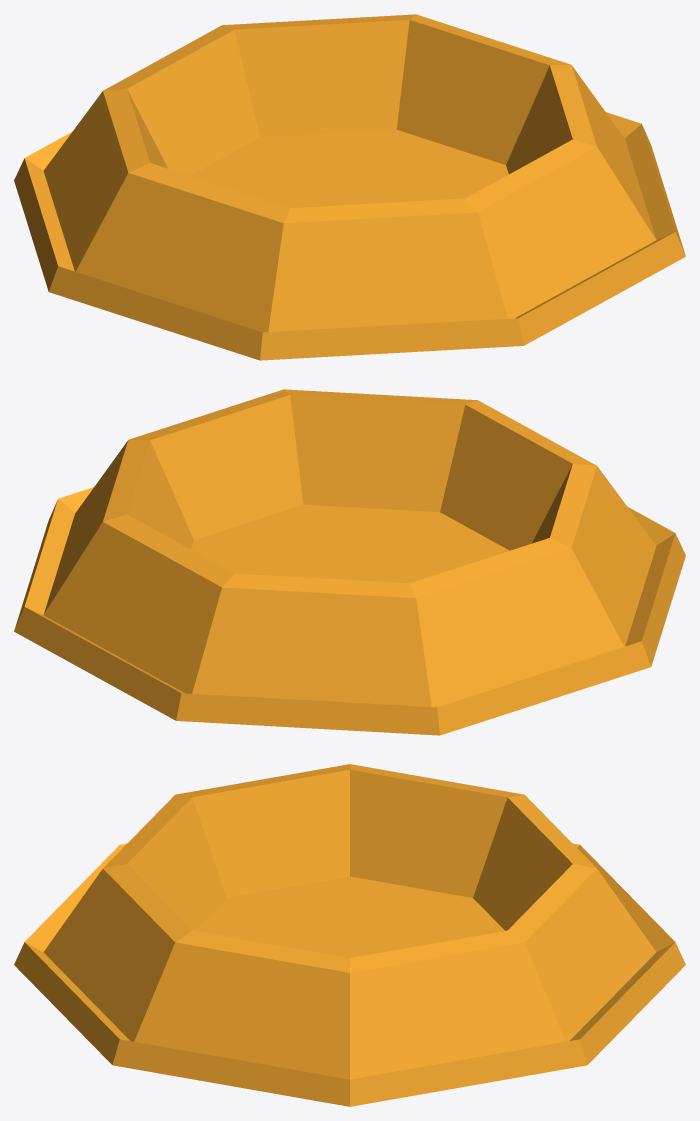
File: SM_Bowl_Cat_B.fbx
3 renders of one model, top to bottom at view 1: azimuth 30°, elevation 25°; view 2: azimuth 150°, elevation 25°; view 3: azimuth 270°, elevation 25°, orthographic. The views are drawn at different scales.
Visible parts, largest first — view 1: SM_Bowl_Cat_B; view 2: SM_Bowl_Cat_B; view 3: SM_Bowl_Cat_B.
Boxes of the visible parts, x1=… form: SM_Bowl_Cat_B: x1=14, y1=14, x2=685, y2=360; SM_Bowl_Cat_B: x1=14, y1=389, x2=685, y2=735; SM_Bowl_Cat_B: x1=14, y1=764, x2=685, y2=1106.
Bounding box in the file's own units: 0.2 × 0.0332 × 0.2.
